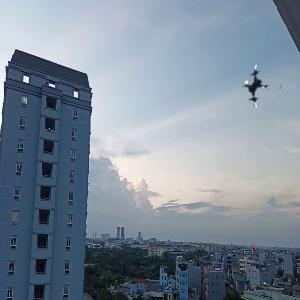drone: (239, 62, 287, 110)
